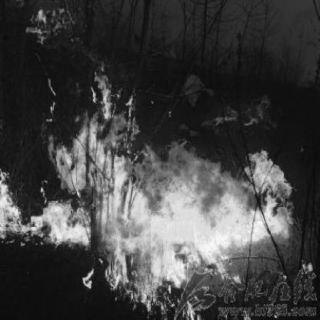Fire: (7, 68, 303, 314), (23, 7, 71, 45)
